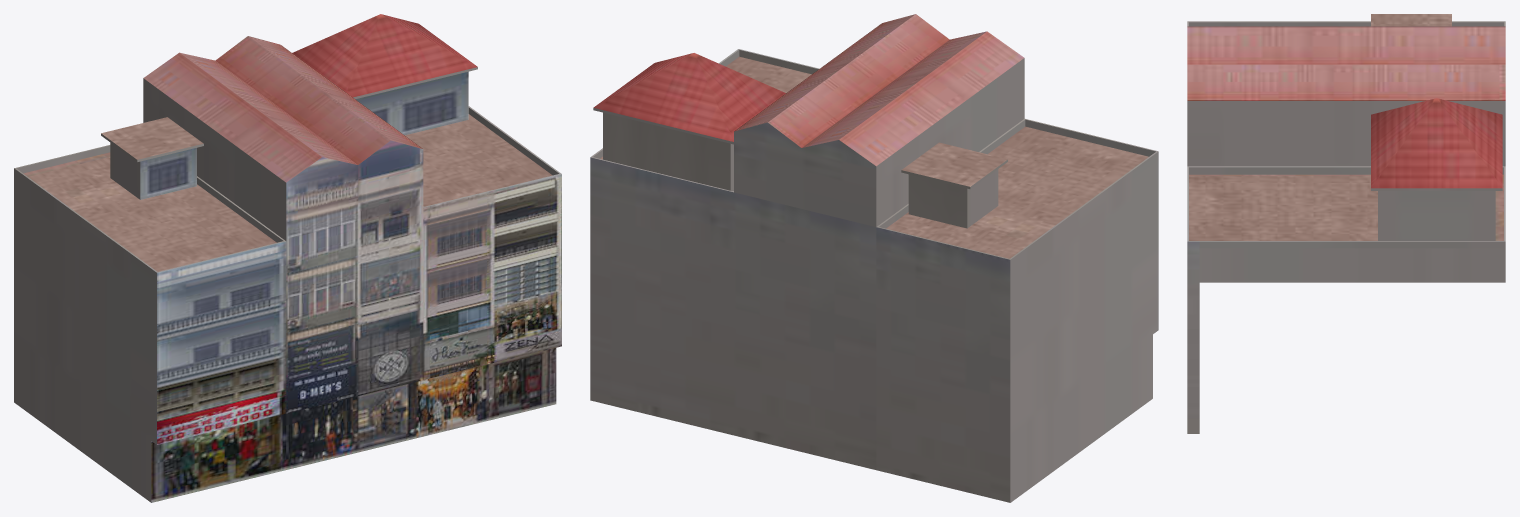
3 views of the same model, side by side, from view 1: azimuth 30°, elevation 25°; view 2: azimuth 150°, elevation 25°; view 3: azimuth 270°, elevation 25° (orthographic). The views are drawn at different scales.
Parts seen in each view (by area): view 1: 5c5024b9822d164ae4d861c8.001; view 2: 5c5024b9822d164ae4d861c8.001; view 3: 5c5024b9822d164ae4d861c8.001.
Part boxes in pixels (x1,y1,x2,y2): 5c5024b9822d164ae4d861c8.001: (14,14,561,502); 5c5024b9822d164ae4d861c8.001: (590,14,1158,502); 5c5024b9822d164ae4d861c8.001: (1187,14,1505,433).
Bounding box in the file's own units: 25.32 × 19.68 × 15.47.
1 material, 1 textured.
